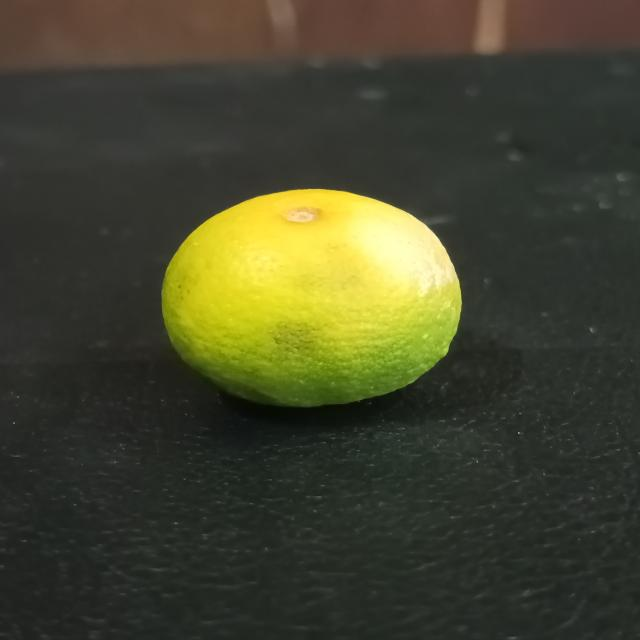greening: (160, 185, 472, 409)
